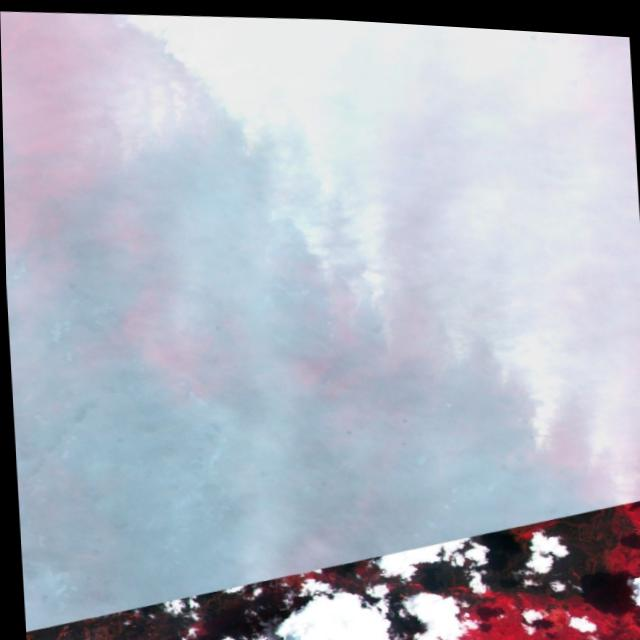fire: (35, 56, 622, 530)
